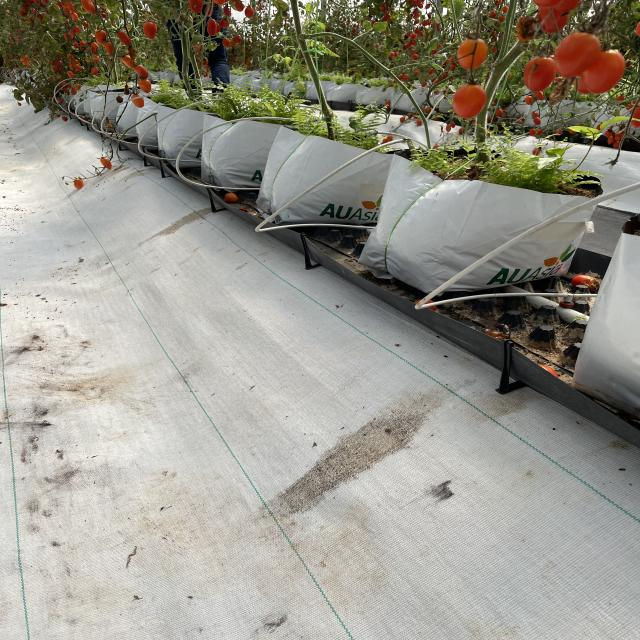Obstacle: (432, 181, 640, 298), (370, 137, 419, 162)
Soilbag: (358, 155, 605, 295), (256, 127, 393, 232), (202, 115, 322, 192), (159, 103, 248, 169), (135, 96, 203, 149), (115, 93, 176, 137), (86, 89, 146, 126), (72, 82, 111, 113), (65, 80, 98, 112)
Tomato: (552, 33, 624, 95), (531, 0, 587, 35), (447, 84, 491, 123), (457, 34, 487, 70), (526, 59, 556, 92)
plant: (454, 0, 637, 160), (286, 0, 423, 133)
